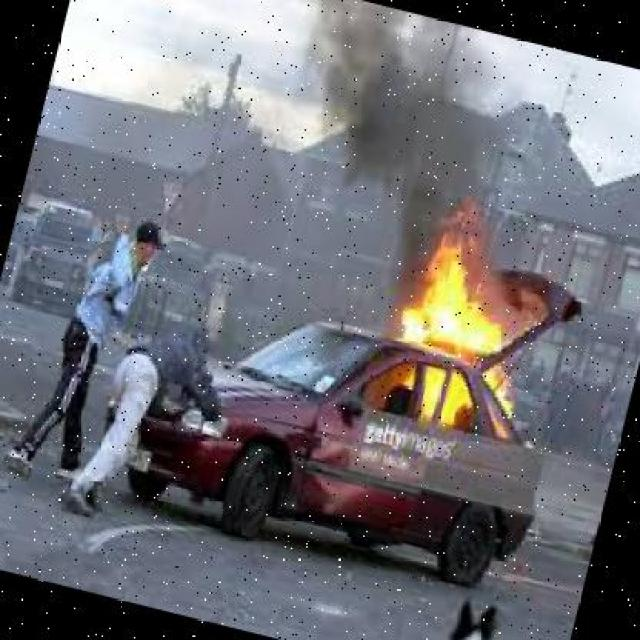fire: (363, 194, 577, 446)
